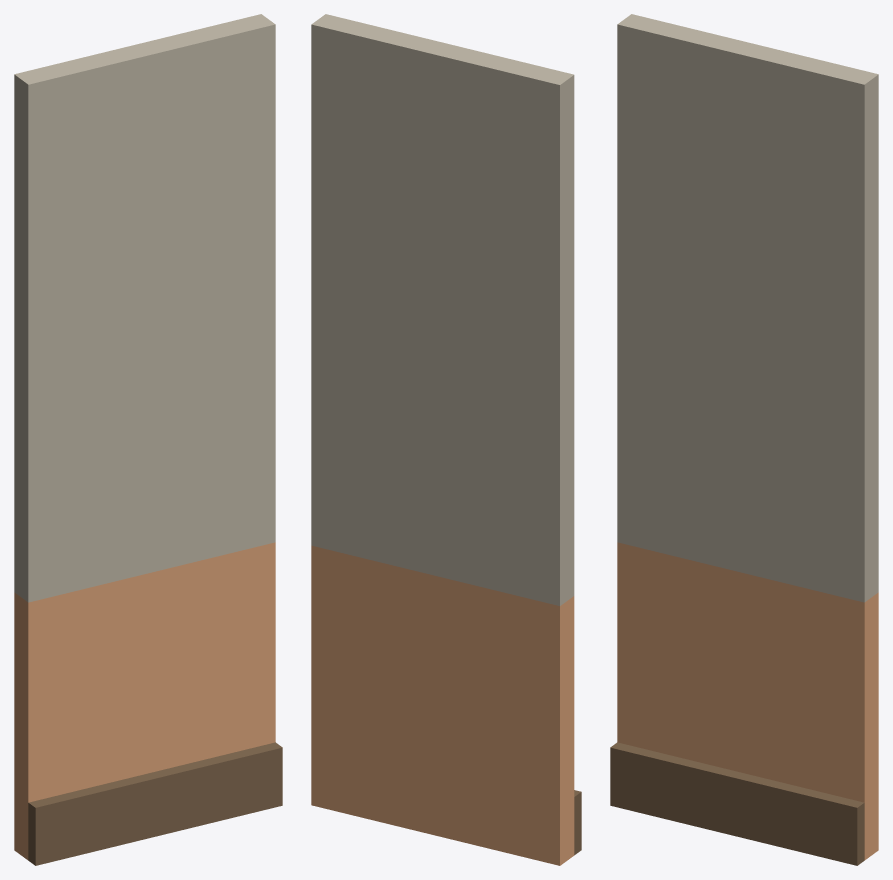
File: Mesh_WallBaseboard2Colors_C1.fbx
3 views of the same model, side by side, from view 1: azimuth 30°, elevation 25°; view 2: azimuth 150°, elevation 25°; view 3: azimuth 330°, elevation 25° (orthographic).
Parts seen in each view (by area): view 1: Mesh_WallBaseboard2Colors_C1; view 2: Mesh_WallBaseboard2Colors_C1; view 3: Mesh_WallBaseboard2Colors_C1.
Part boxes in pixels (<box>): Mesh_WallBaseboard2Colors_C1: <box>14,14,282,865</box>; Mesh_WallBaseboard2Colors_C1: <box>311,14,581,865</box>; Mesh_WallBaseboard2Colors_C1: <box>610,14,878,865</box>.
Bounding box in the file's own units: 1 × 3 × 0.15.
